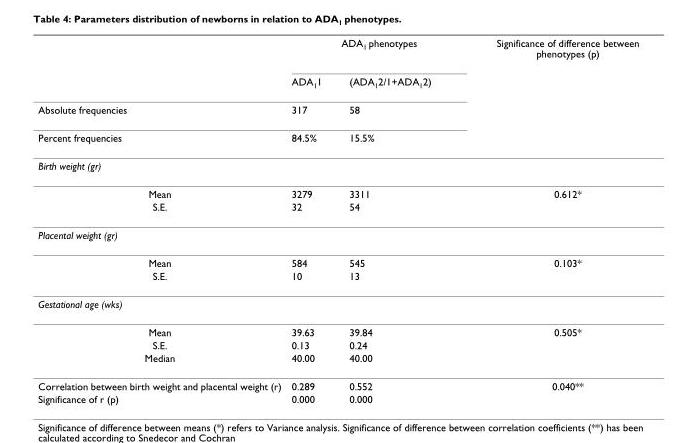table: (37, 36, 638, 404)
table column: (37, 36, 285, 404), (463, 36, 638, 404), (334, 36, 463, 404), (285, 36, 334, 404)
table column header: (37, 36, 638, 151)
table projected row header: (37, 151, 638, 179), (37, 220, 638, 248), (37, 289, 638, 317)
table row: (37, 36, 638, 66), (37, 66, 638, 96), (37, 123, 638, 151), (37, 151, 638, 179), (37, 220, 638, 248), (37, 289, 638, 317), (37, 96, 638, 123), (37, 199, 638, 220), (37, 248, 638, 269), (37, 317, 638, 338), (37, 371, 638, 392), (37, 179, 638, 199), (37, 269, 638, 289), (37, 351, 638, 371), (37, 338, 638, 351), (37, 392, 638, 404)
table spanning cell: (37, 36, 285, 151), (463, 36, 638, 151), (334, 66, 463, 151), (285, 36, 463, 66), (285, 66, 334, 151)
